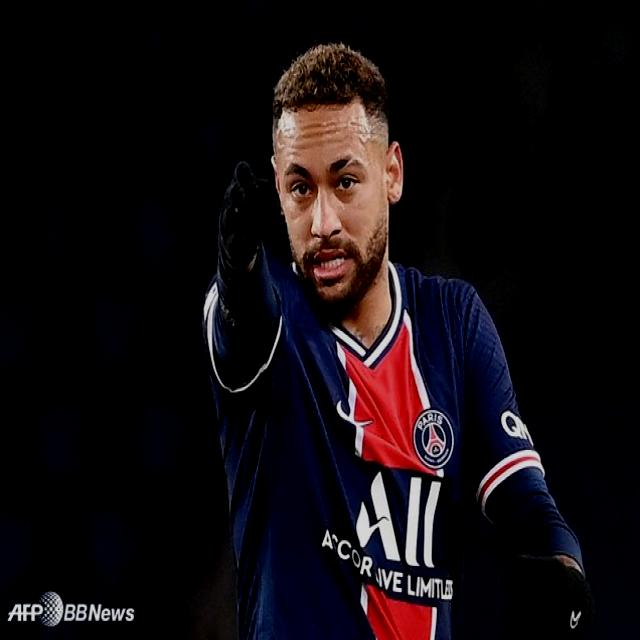neymar: (265, 63, 403, 305)
